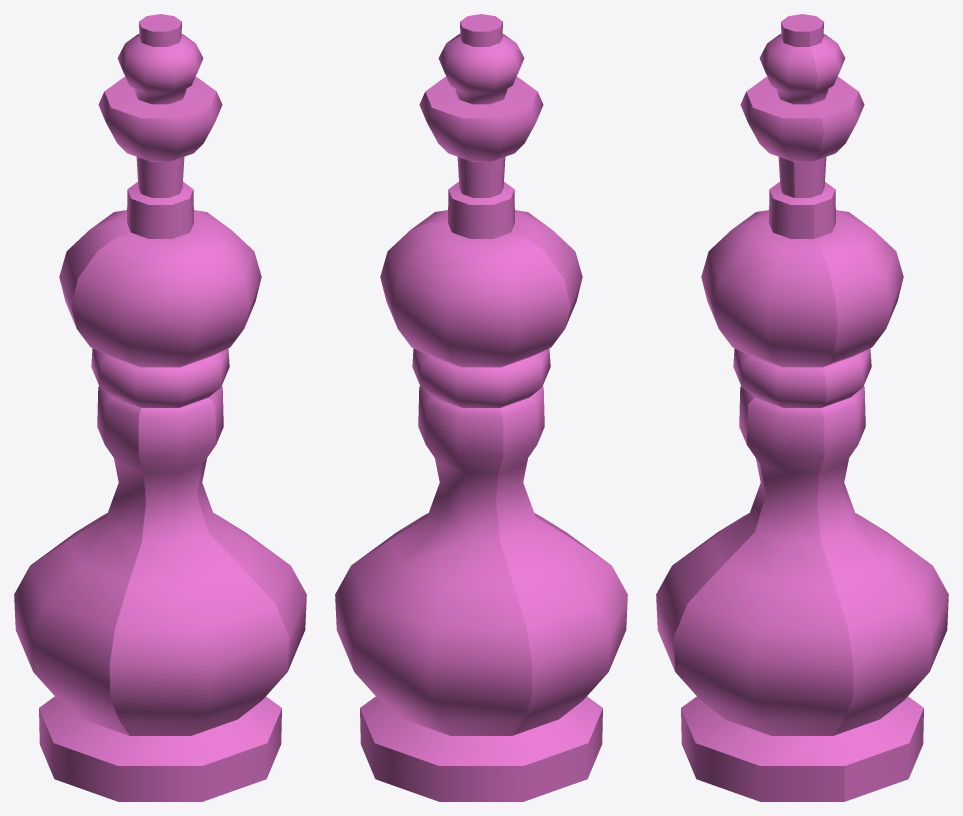
File: SM_Magic_Bottle_4.fbx
3 views of the same model, side by side, from view 1: azimuth 30°, elevation 25°; view 2: azimuth 150°, elevation 25°; view 3: azimuth 270°, elevation 25° (orthographic).
Parts seen in each view (by area): view 1: SM_Magic_Bottle_4; view 2: SM_Magic_Bottle_4; view 3: SM_Magic_Bottle_4.
Boxes of the visible parts, x1,y1,x2,y2 form: SM_Magic_Bottle_4: (14, 14, 306, 801); SM_Magic_Bottle_4: (335, 14, 627, 801); SM_Magic_Bottle_4: (656, 14, 948, 801).
Bounding box in the file's own units: 0.3054 × 0.8534 × 0.3101.
